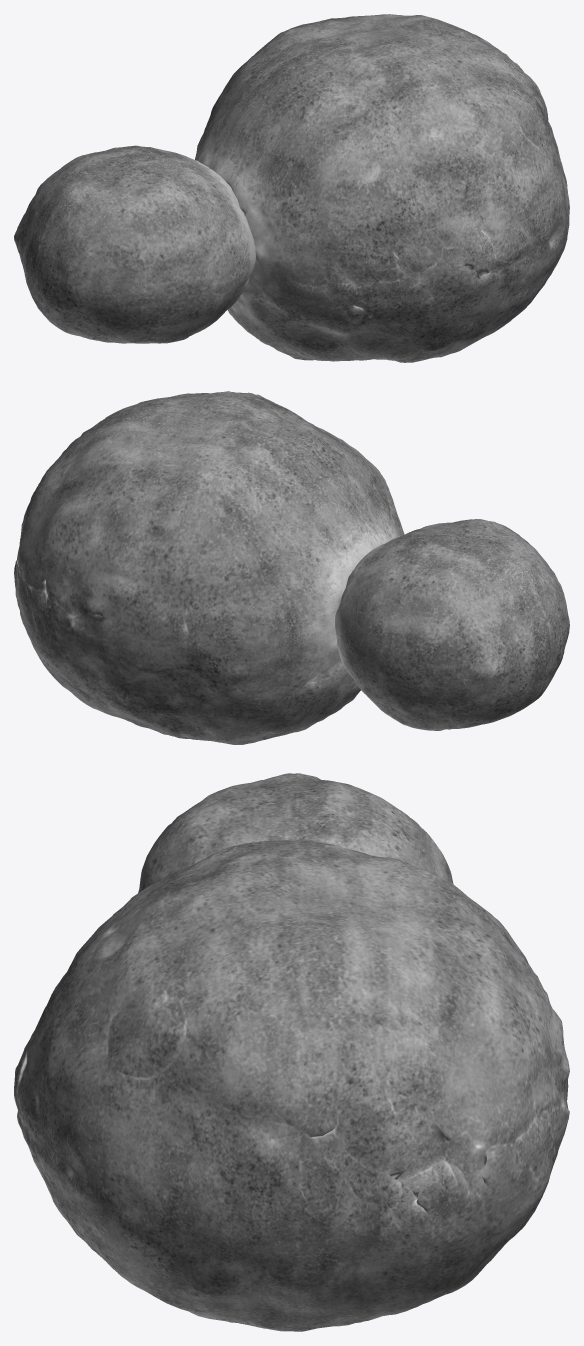
The model's file is ultima_thule_-_concept_vision.glb.
The picture shows the model from 3 angles, top to bottom: view 1: azimuth 30°, elevation 25°; view 2: azimuth 150°, elevation 25°; view 3: azimuth 270°, elevation 25°; orthographic projection. The views are drawn at different scales.
Visible parts, largest first — view 1: UltimaThule LP_zbrush_defaultMat_0; view 2: UltimaThule LP_zbrush_defaultMat_0; view 3: UltimaThule LP_zbrush_defaultMat_0.
Boxes of the visible parts, x1=… form: UltimaThule LP_zbrush_defaultMat_0: x1=14, y1=14, x2=569, y2=362; UltimaThule LP_zbrush_defaultMat_0: x1=14, y1=391, x2=569, y2=744; UltimaThule LP_zbrush_defaultMat_0: x1=14, y1=773, x2=569, y2=1331.
Size of the model in its own units: 3.13 by 1.82 by 2.14.
1 material, 1 textured.
